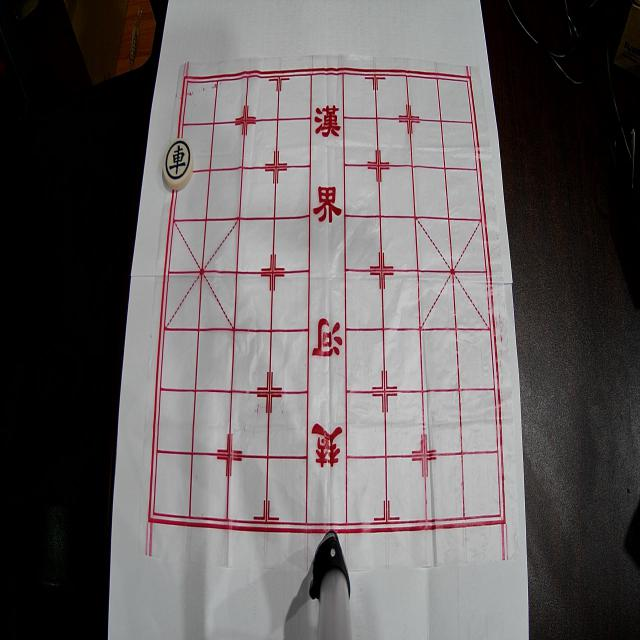black-chariot: (162, 138, 194, 190)
